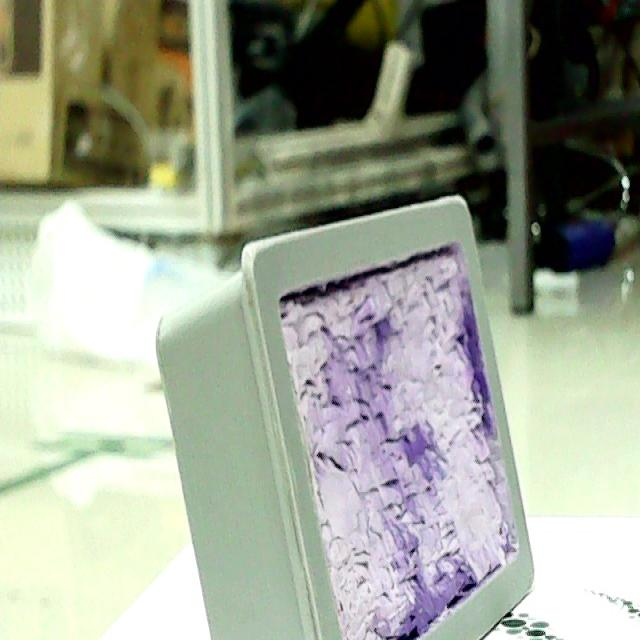block: (154, 189, 534, 640)
